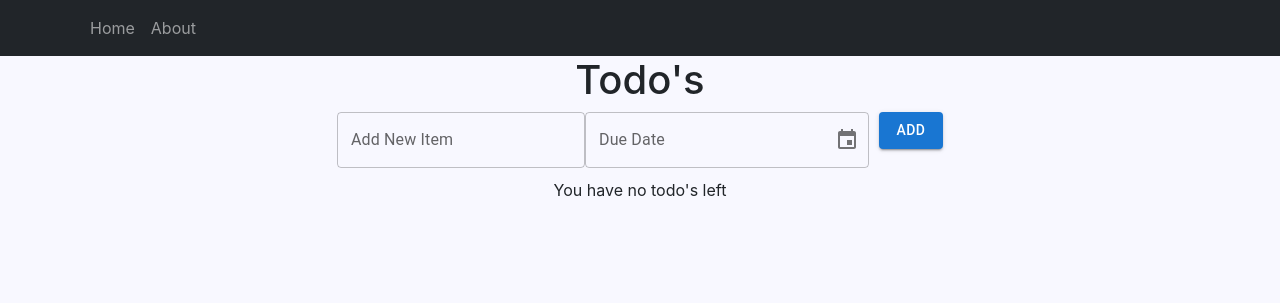
test the deletion of a task by checking the box
Type "Cook" into the field labelled "Add New Item" at (461, 140), box [337,112,585,168]
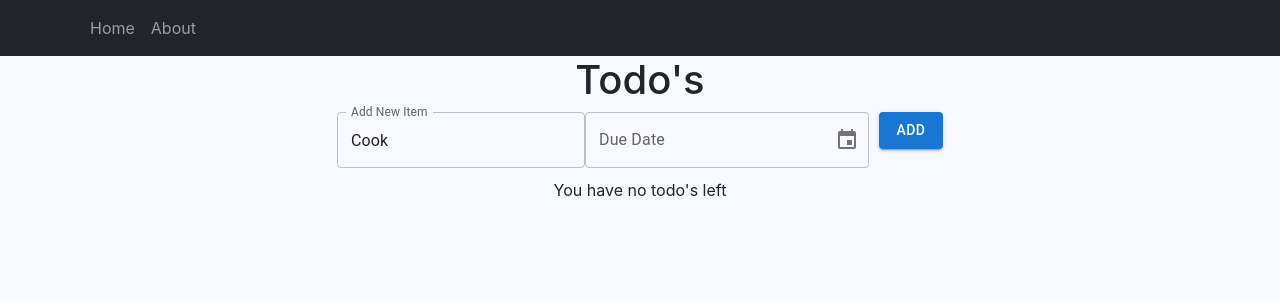
Type "06/15/2024" into the field with placeholder "mm/dd/yyyy" at (702, 140), box [585,112,819,168]
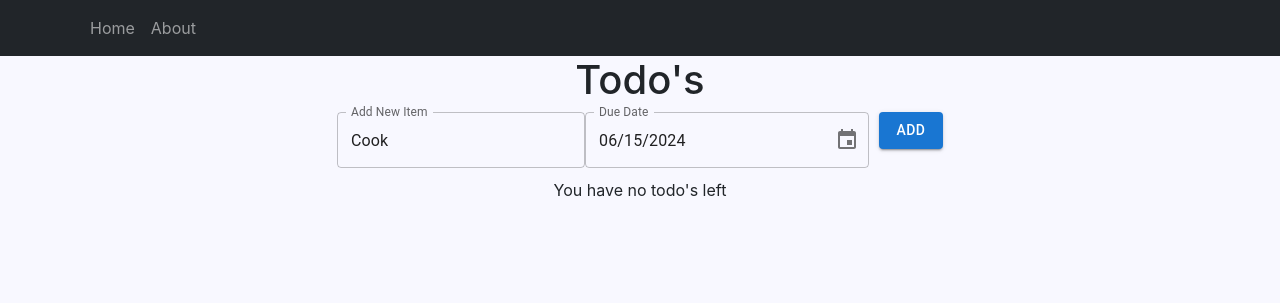
Click the button "Add" at (911, 130), box [879,112,943,148]
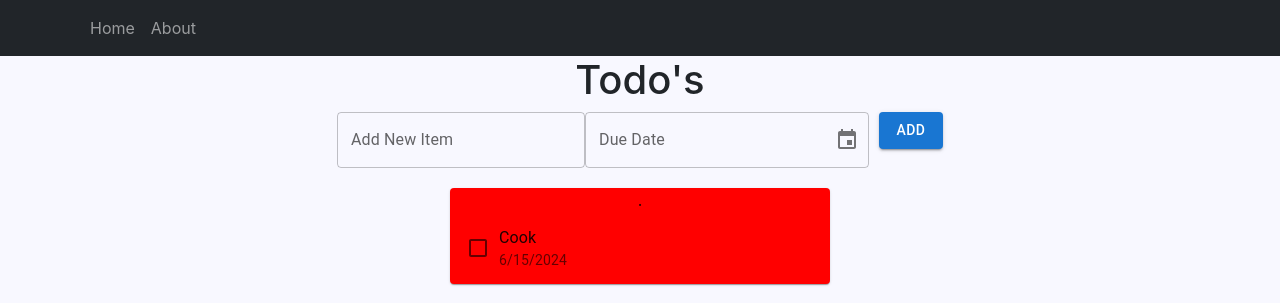
Now the text "Cook" is shown, box [499,228,536,247]
Click the checkbox at (478, 248), box [466,236,490,260]
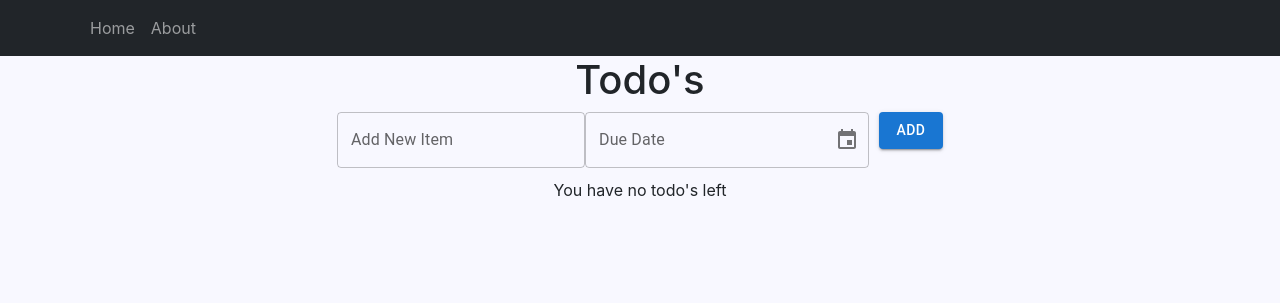
Now the link "Cook" is gone
